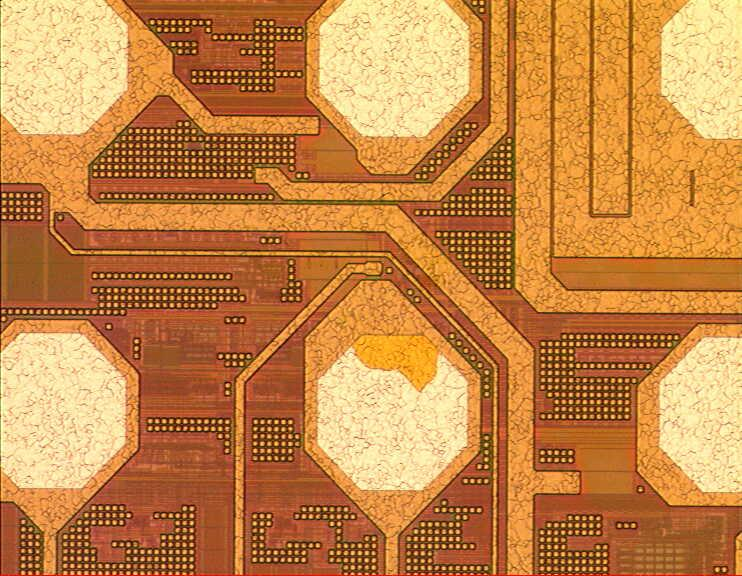BLOCK ETCH: (346, 331, 443, 396)
